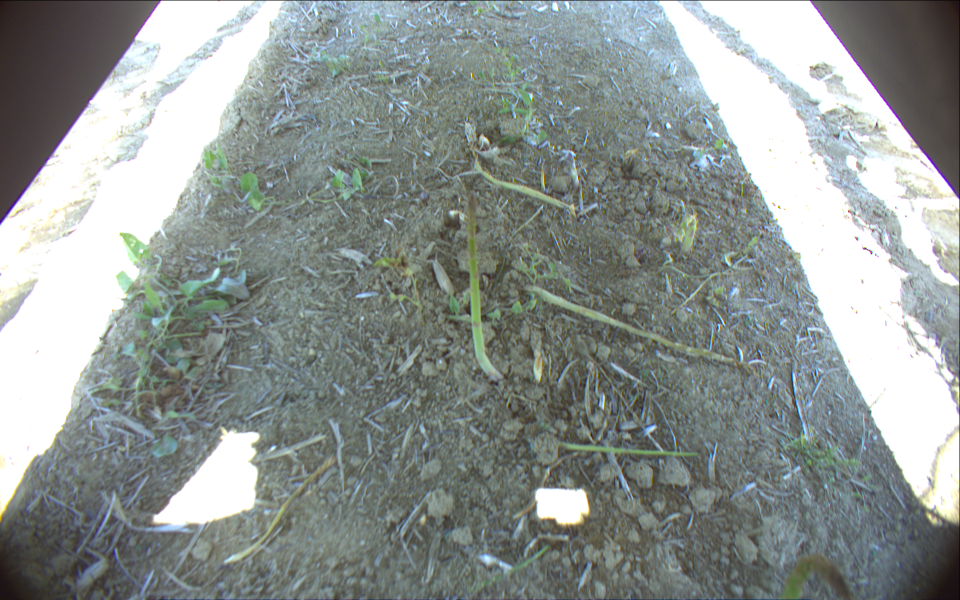aspa: (460, 189, 504, 386)
